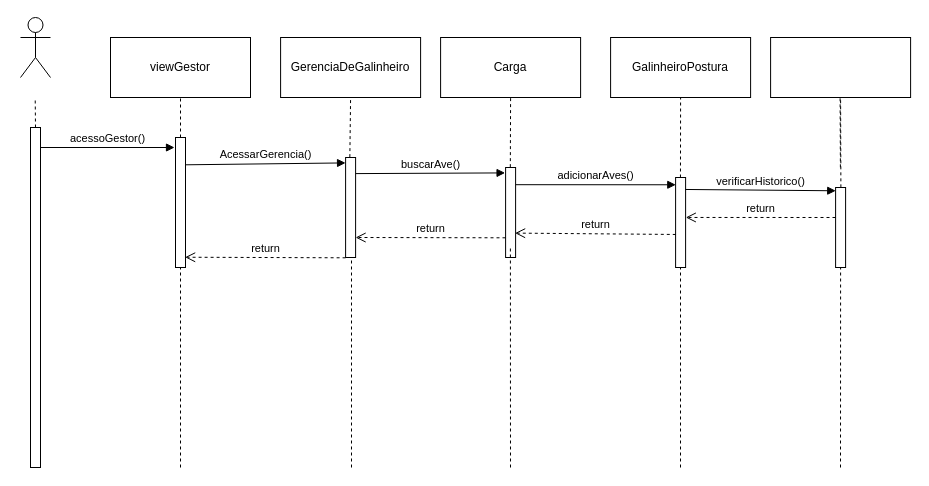
Image size: 929x486. Some labels were removed from this diagram. The shapes that lost their labels are listed below. From the top down, each one's box as (x1, y1, x2, y2) in pixels, then its label:
(20, 16, 50, 78): Gestor
(770, 36, 911, 98): historico
